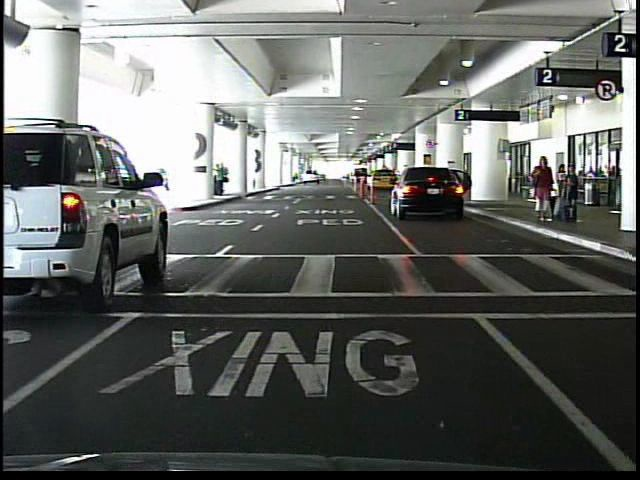person: (527, 154, 555, 222), (562, 163, 582, 223), (215, 162, 229, 198), (556, 164, 567, 200), (223, 165, 224, 196)
